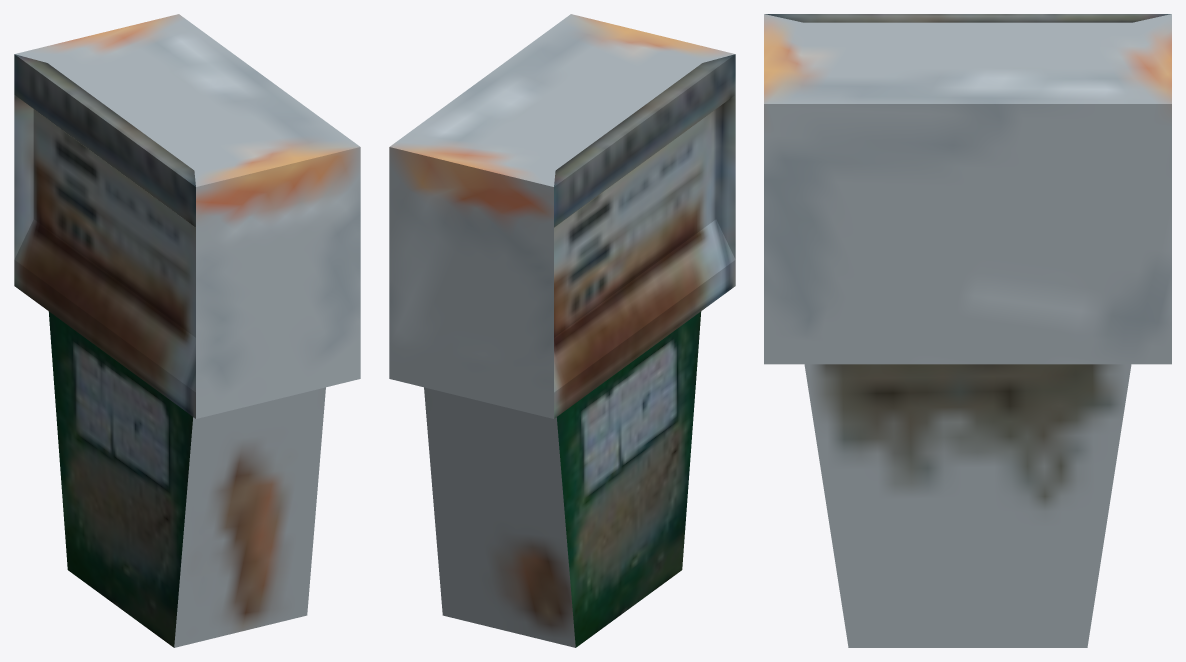
The model's file is gas pump.fbx.
3 renders of one model, left to right at view 1: azimuth 30°, elevation 25°; view 2: azimuth 150°, elevation 25°; view 3: azimuth 270°, elevation 25°, orthographic. The views are drawn at different scales.
Parts seen in each view (by area): view 1: Pump8; view 2: Pump8; view 3: Pump8.
Boxes of the visible parts, <box> form: Pump8: <box>14,14,360,647</box>; Pump8: <box>389,14,735,647</box>; Pump8: <box>764,14,1171,647</box>.
Bounding box in the file's own units: 2.57 × 7.36 × 4.92.
